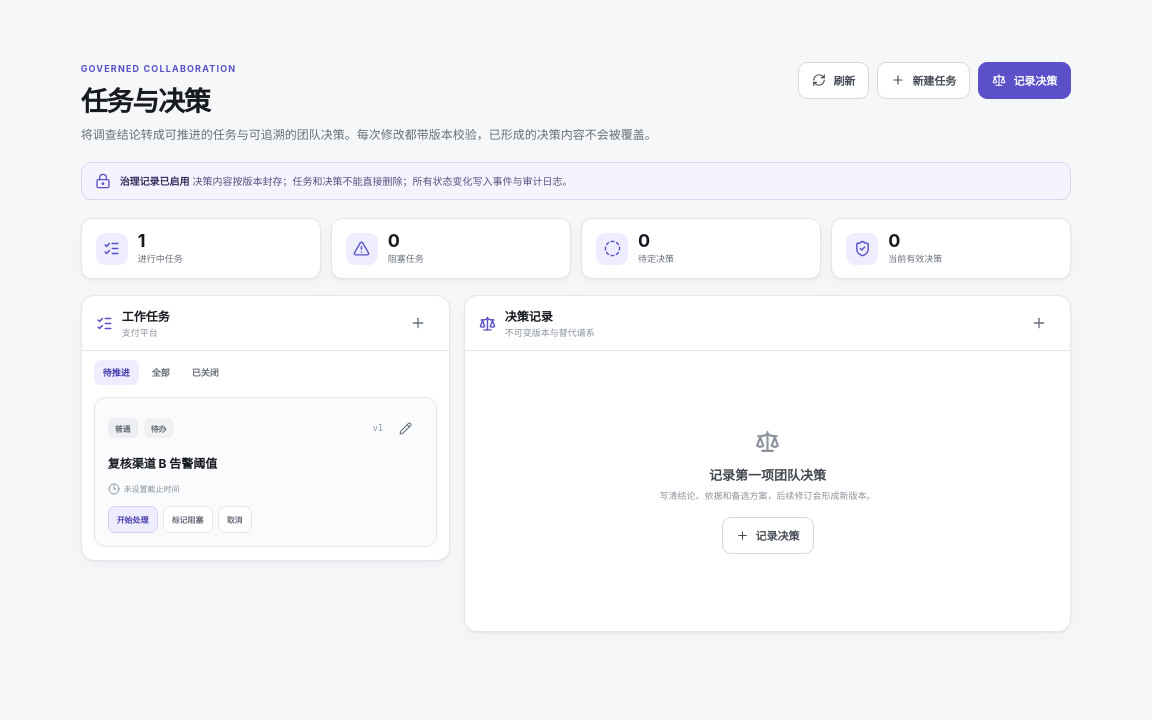
CollaborationView task creation › creates a task from the modal with an optional source Run
Expected: the heading "复核渠道 B 告警阈值" is shown, [108,456,217,471]
Click the button "新建任务" at (924,80), box [877,62,970,99]
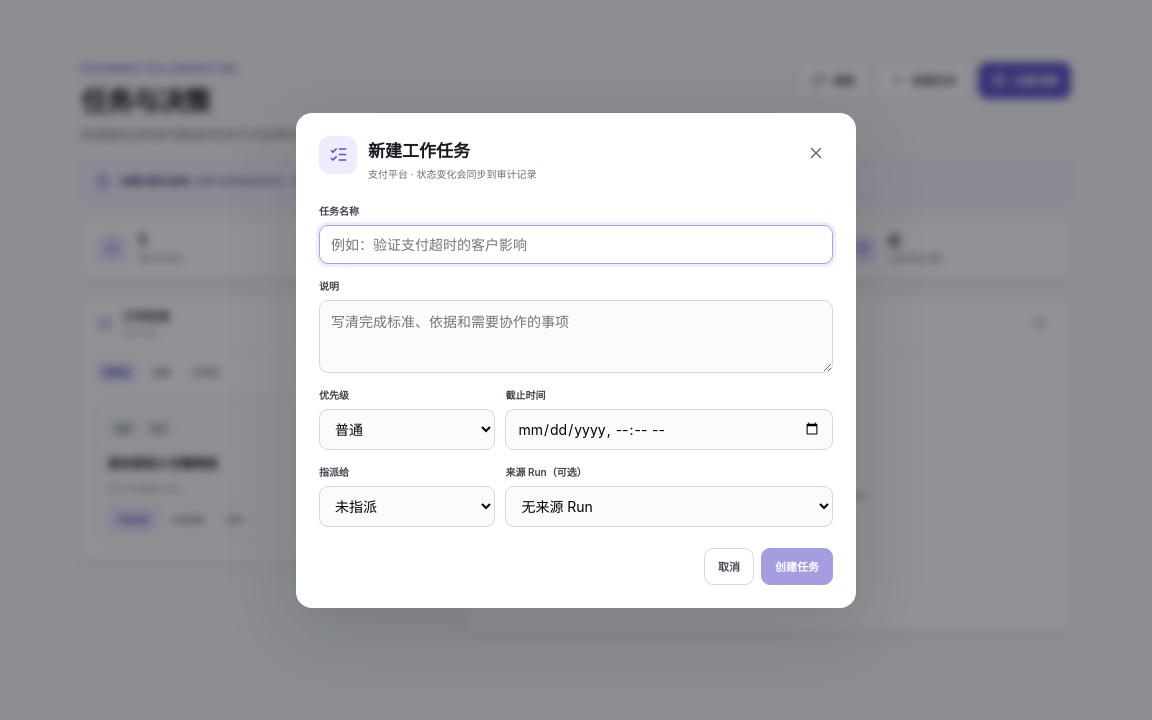
Expected: the heading "新建工作任务" is shown, [368,140,470,160]
Type "跟进渠道 B" into the field labelled "任务名称" at (576,244), box [319,224,833,264]
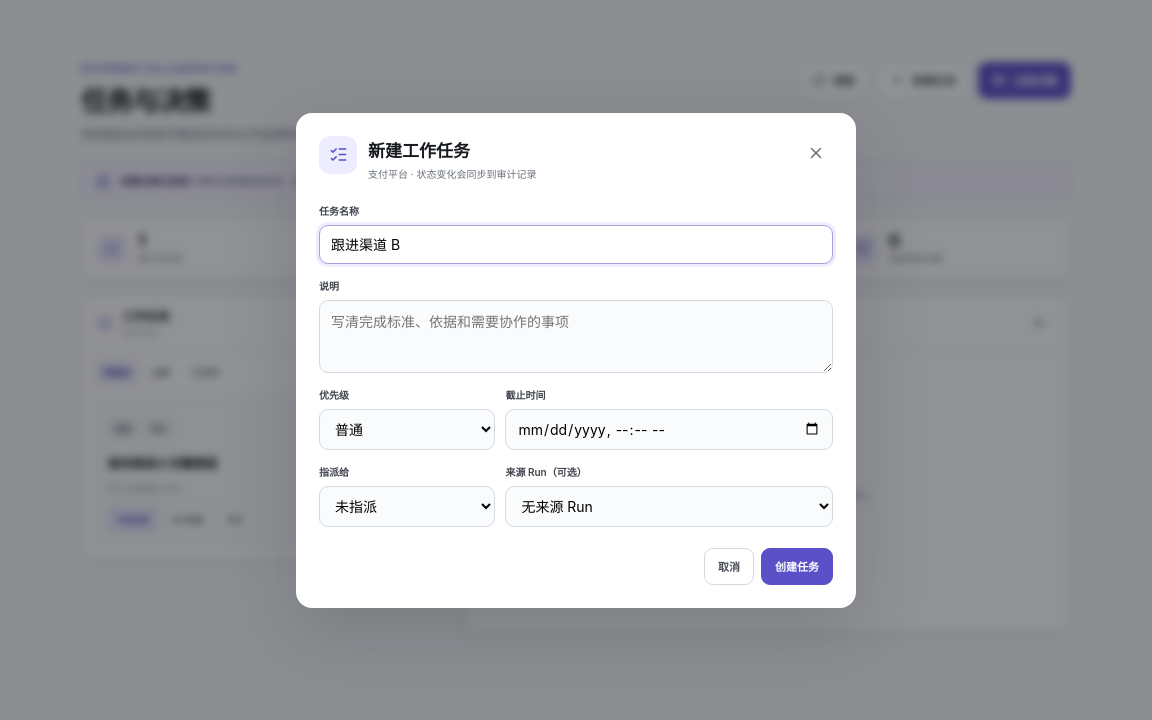
Select "支付超时调查 · Run 123e4567" in the dropdown labelled "来源 Run（可选）" at (669,506), box [505,486,833,526]
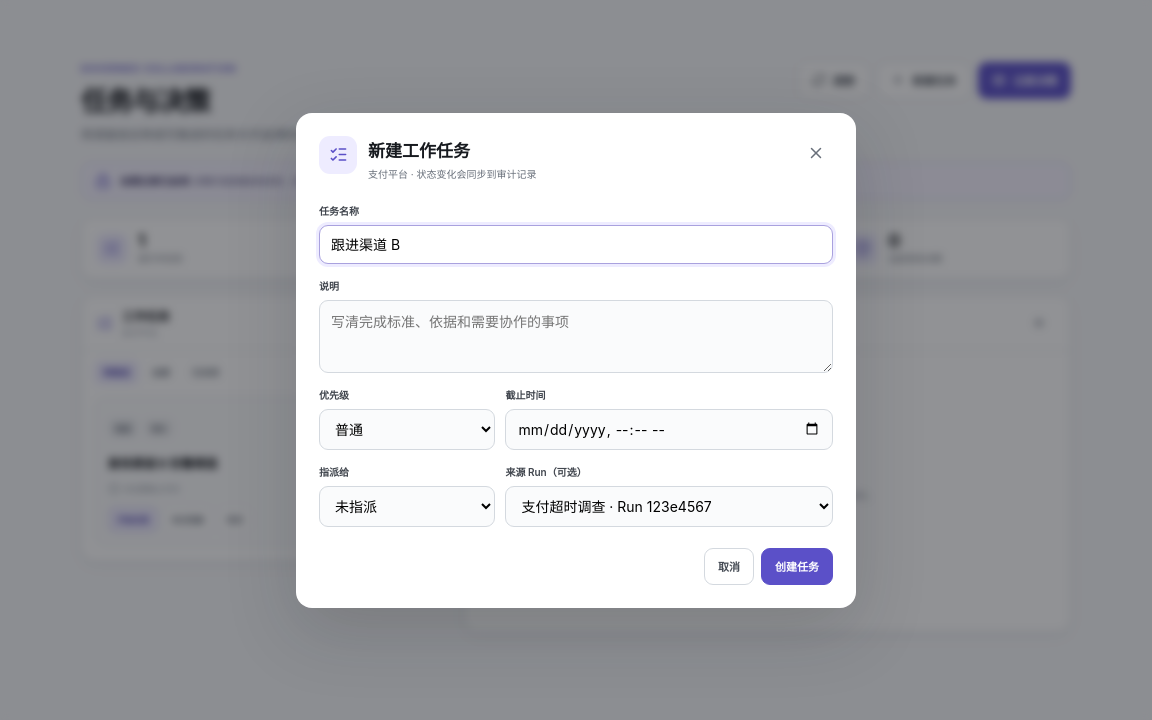
Click the button "创建任务" at (797,566), box [761,548,833,584]
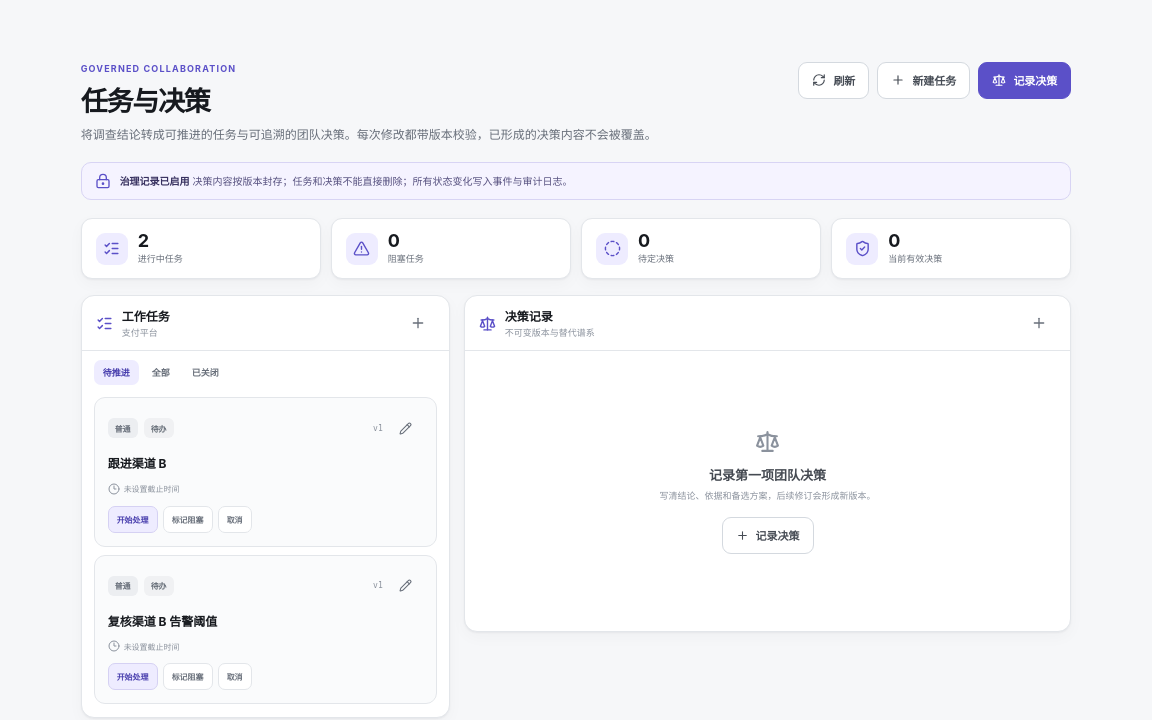
Expected: the heading "跟进渠道 B" is shown, [108,456,166,471]
